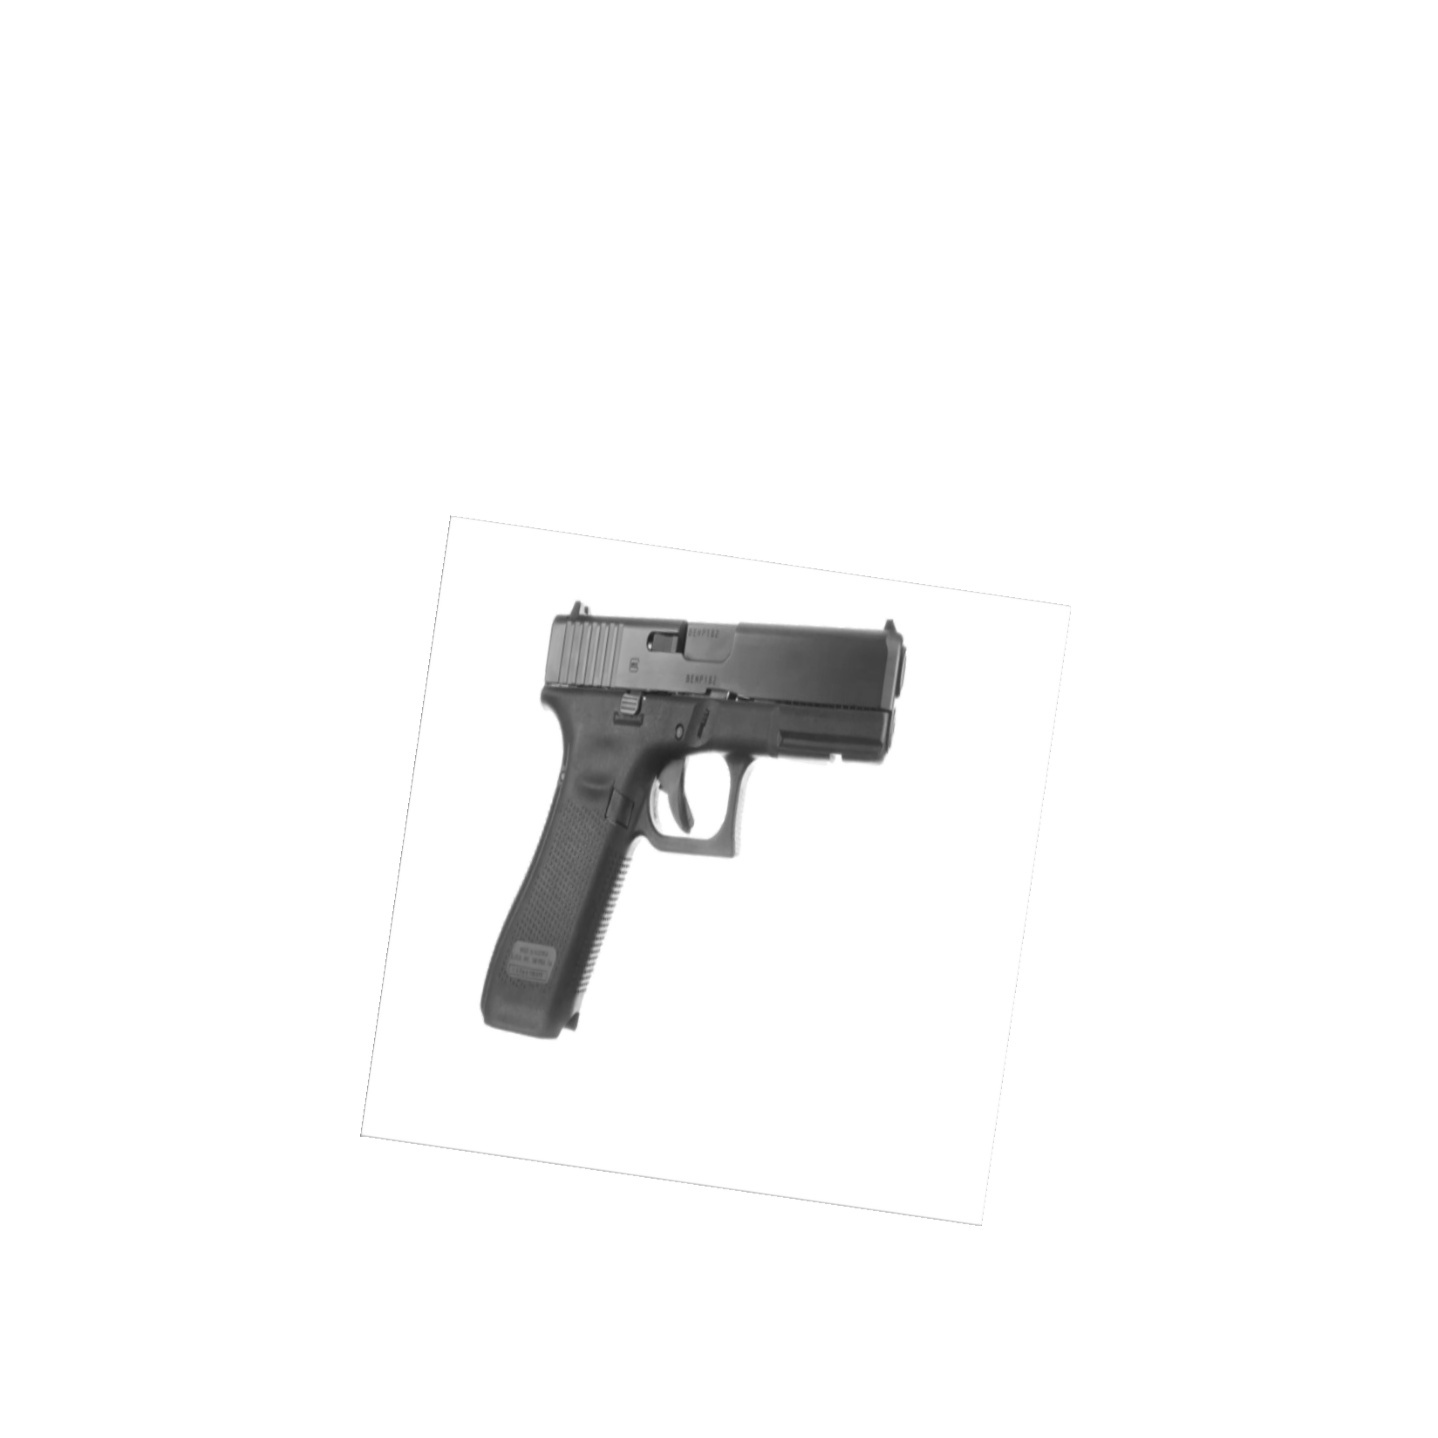gun: (479, 598, 911, 1040)
